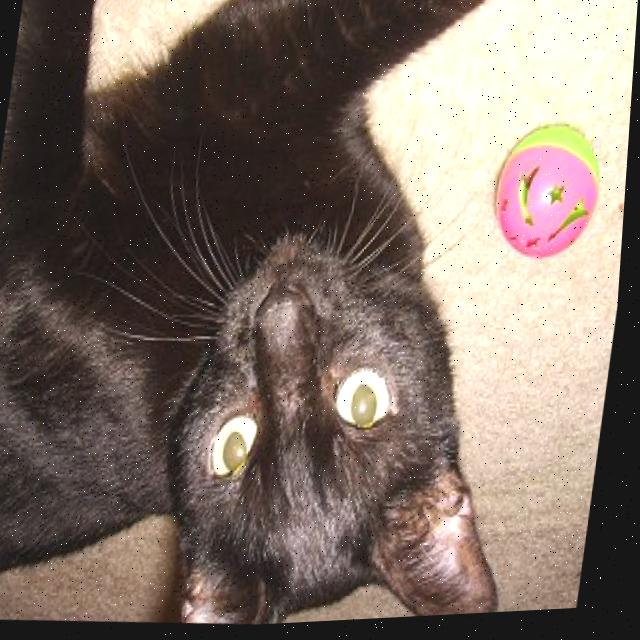Bombay: (0, 0, 586, 640)
